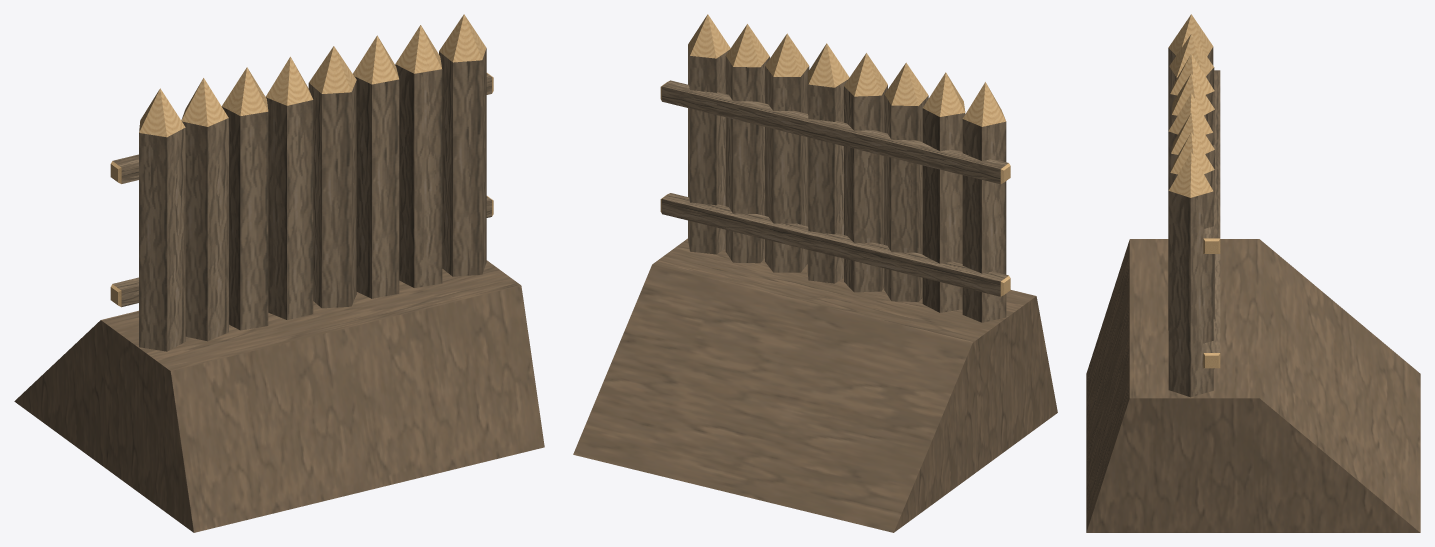
The model's file is earthworks_texture.glb.
3 views of the same model, side by side, from view 1: azimuth 30°, elevation 25°; view 2: azimuth 150°, elevation 25°; view 3: azimuth 270°, elevation 25° (orthographic). The views are drawn at different scales.
Parts seen in each view (by area): view 1: earthworks.002; view 2: earthworks.002; view 3: earthworks.002.
Boxes of the visible parts, <box> form: earthworks.002: <box>14,14,544,532</box>; earthworks.002: <box>573,14,1057,532</box>; earthworks.002: <box>1086,14,1420,532</box>.
Bounding box in the file's own units: 5.35 × 5.42 × 4.44.
1 material, 1 textured.
